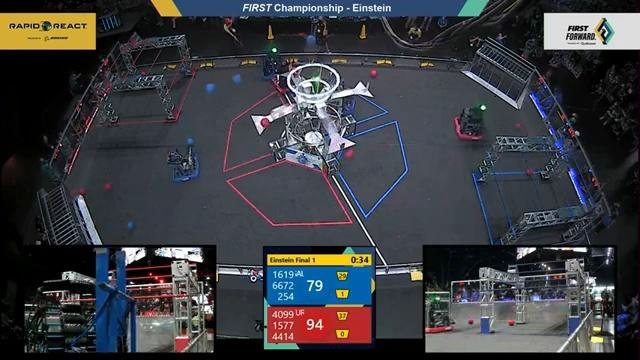robot: (451, 98, 498, 144), (160, 143, 209, 185), (269, 61, 304, 98), (257, 39, 289, 79), (425, 298, 454, 335)
